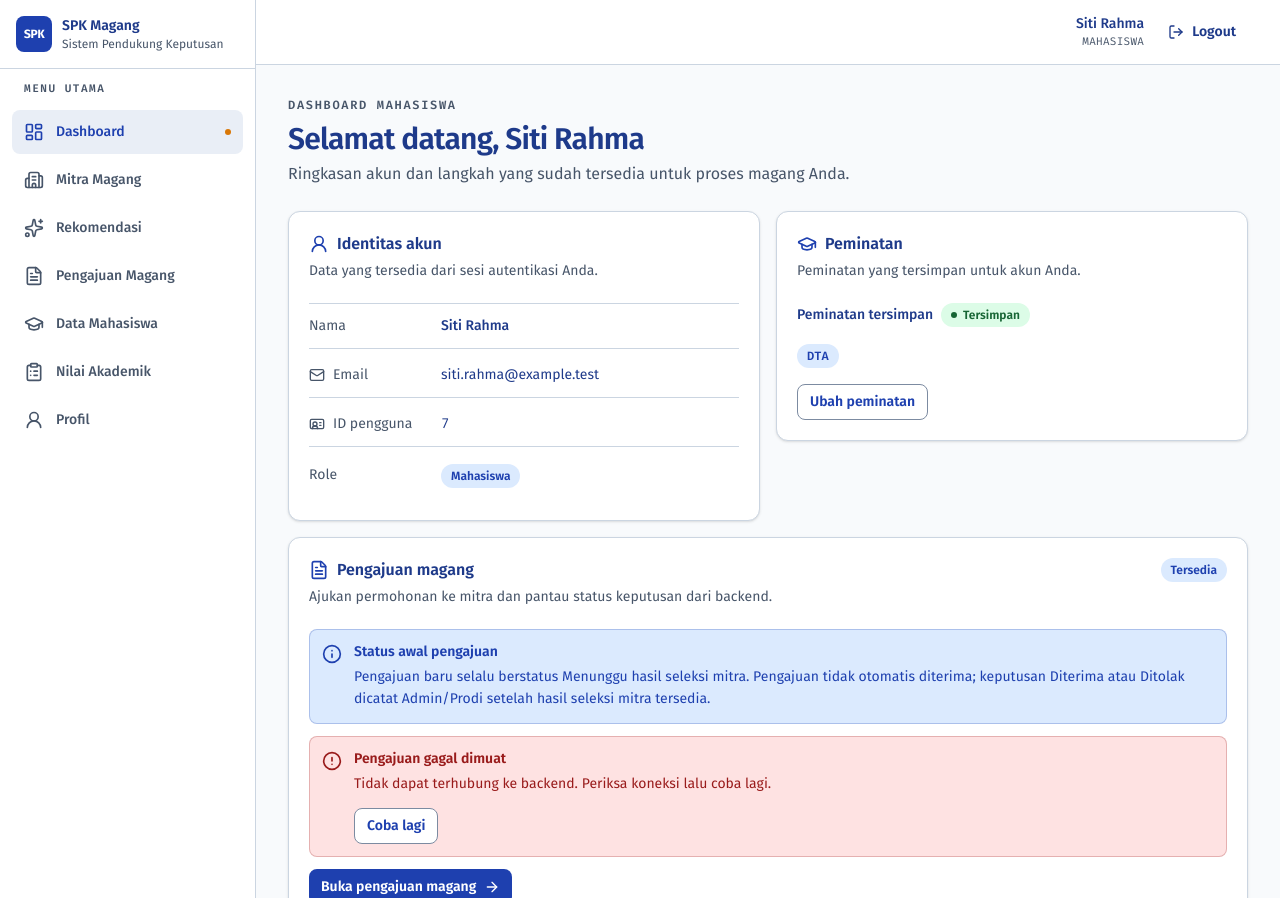
StudentDashboardPage › menampilkan error dan dapat memuat ulang pengajuan
Expected: the text "Pengajuan gagal dimuat" is shown, [354, 750, 506, 767]
Step 1. Click the button "Coba lagi" → (396, 826), box [354, 808, 438, 844]
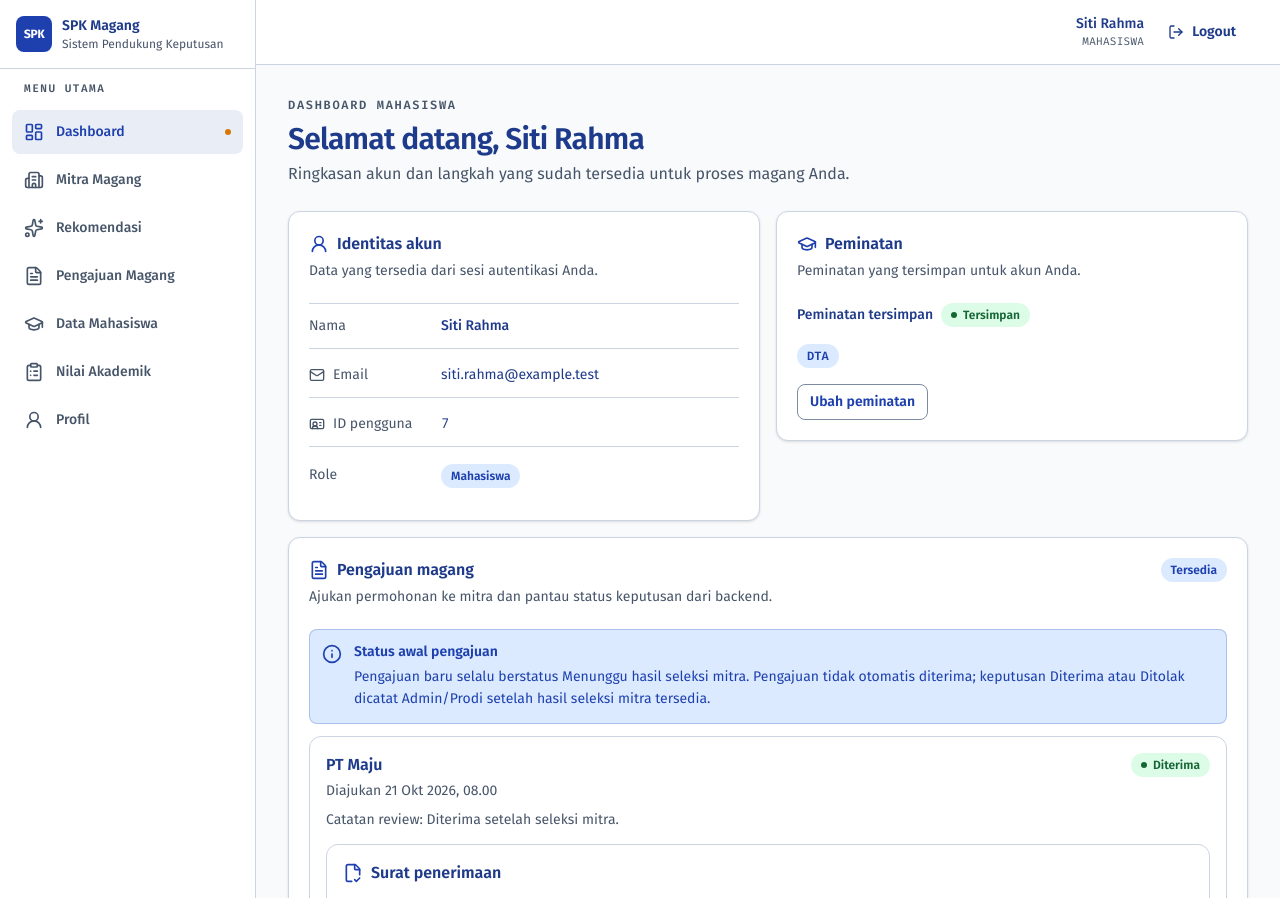
Expected: the text "PT Maju" is shown, [326, 755, 382, 774]
